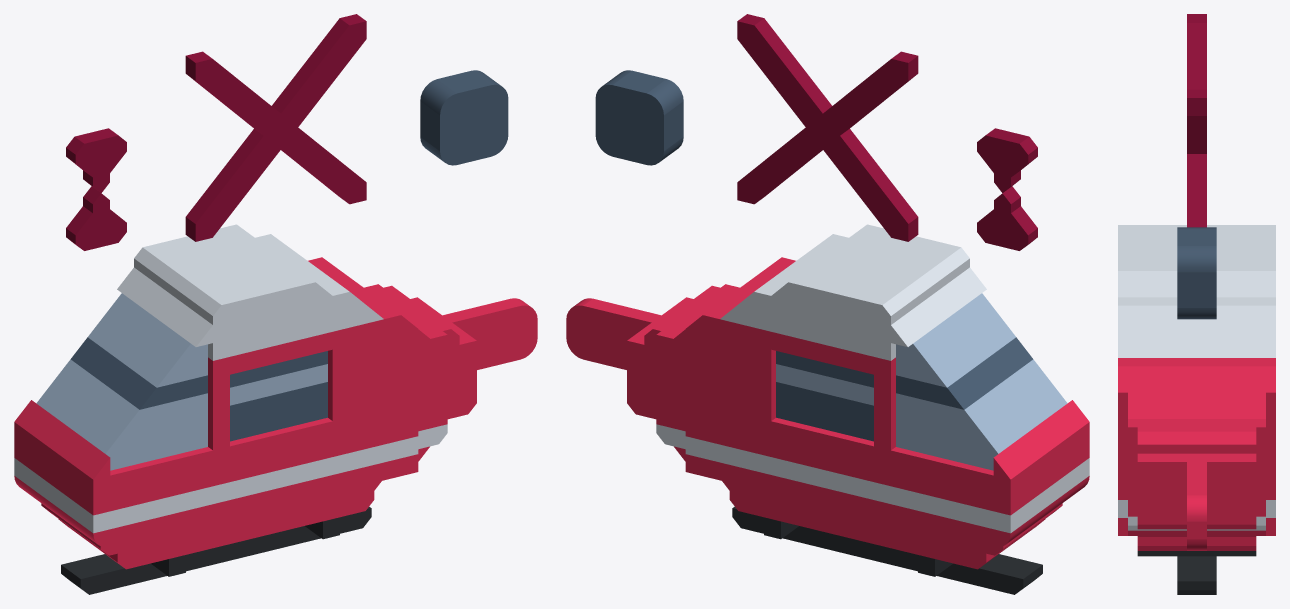
Rendered from heli.dae.
3 renders of one model, left to right at view 1: azimuth 30°, elevation 25°; view 2: azimuth 150°, elevation 25°; view 3: azimuth 270°, elevation 25°, orthographic.
Visible parts, largest first — view 1: generated; view 2: generated; view 3: generated.
Part boxes in pixels (bbox=[...]): generated: bbox=[14, 14, 537, 594]; generated: bbox=[566, 14, 1089, 594]; generated: bbox=[1118, 14, 1275, 594].
Bounding box in the file's own units: 28 × 28 × 8.
Materials: 1 (1 with a texture image).
